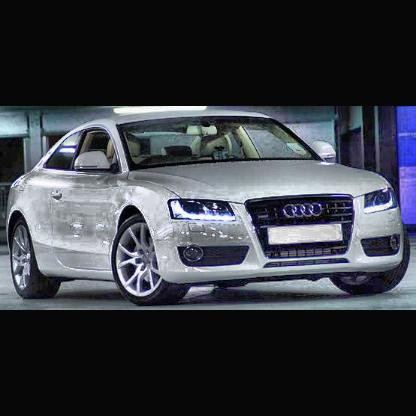Audi A5 Coupe 2012: (7, 110, 411, 306)
